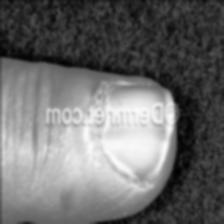Toxin: (85, 72, 165, 144)
